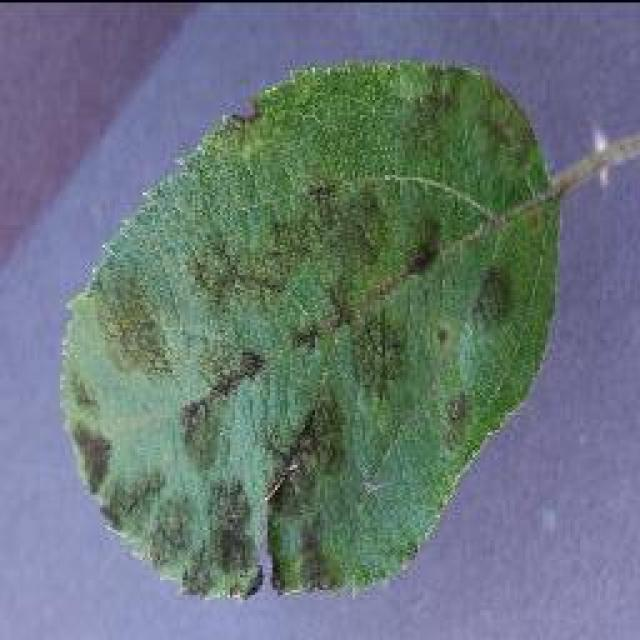apple scab disease: (55, 55, 565, 600)
